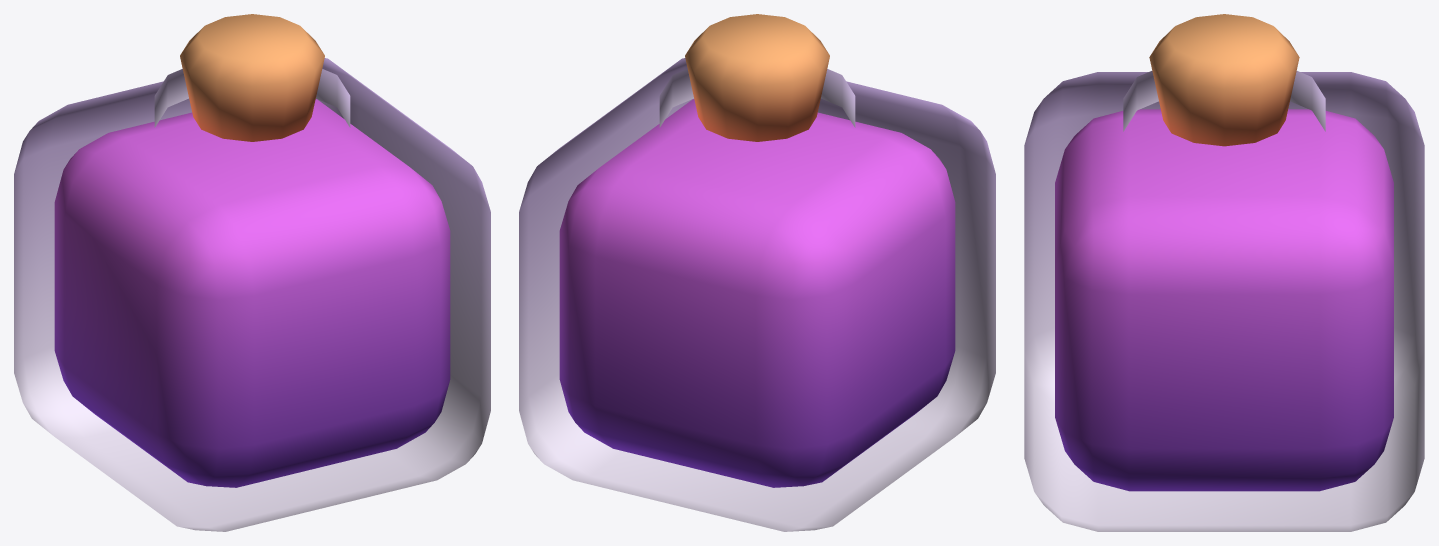
The model's file is potion-cube.glb.
The picture shows the model from 3 angles, left to right: view 1: azimuth 30°, elevation 25°; view 2: azimuth 150°, elevation 25°; view 3: azimuth 270°, elevation 25°; orthographic projection. The views are drawn at different scales.
Visible parts, largest first — view 1: BottleLiquid.001, Bottle.001, BottleCap.001, BottleNeck.001; view 2: BottleLiquid.001, Bottle.001, BottleCap.001, BottleNeck.001; view 3: BottleLiquid.001, Bottle.001, BottleCap.001, BottleNeck.001.
Boxes of the visible parts, box(x1,y1,x2,y2) form: BottleLiquid.001: box(54, 99, 450, 487); Bottle.001: box(14, 58, 490, 531); BottleCap.001: box(180, 14, 324, 141); BottleNeck.001: box(154, 69, 350, 127); BottleLiquid.001: box(559, 99, 955, 487); Bottle.001: box(519, 58, 995, 531); BottleCap.001: box(685, 14, 829, 141); BottleNeck.001: box(659, 69, 855, 127); BottleLiquid.001: box(1055, 109, 1393, 491); Bottle.001: box(1024, 72, 1424, 531); BottleCap.001: box(1149, 14, 1299, 146); BottleNeck.001: box(1123, 71, 1325, 131).
Size of the model in its own units: 0.48 by 0.5742 by 0.48.
Materials: 1 (1 with a texture image).
